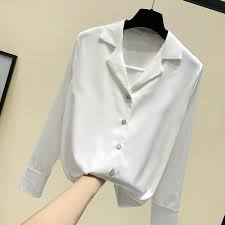C_shirt: (22, 20, 204, 223)
